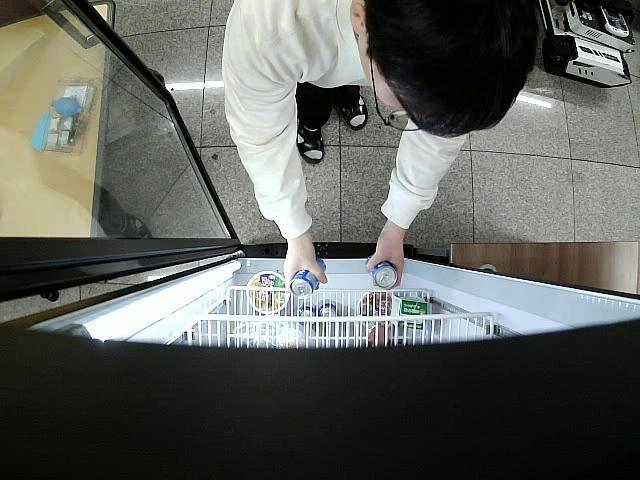15_letsbe: (290, 260, 326, 297), (366, 256, 397, 290)
